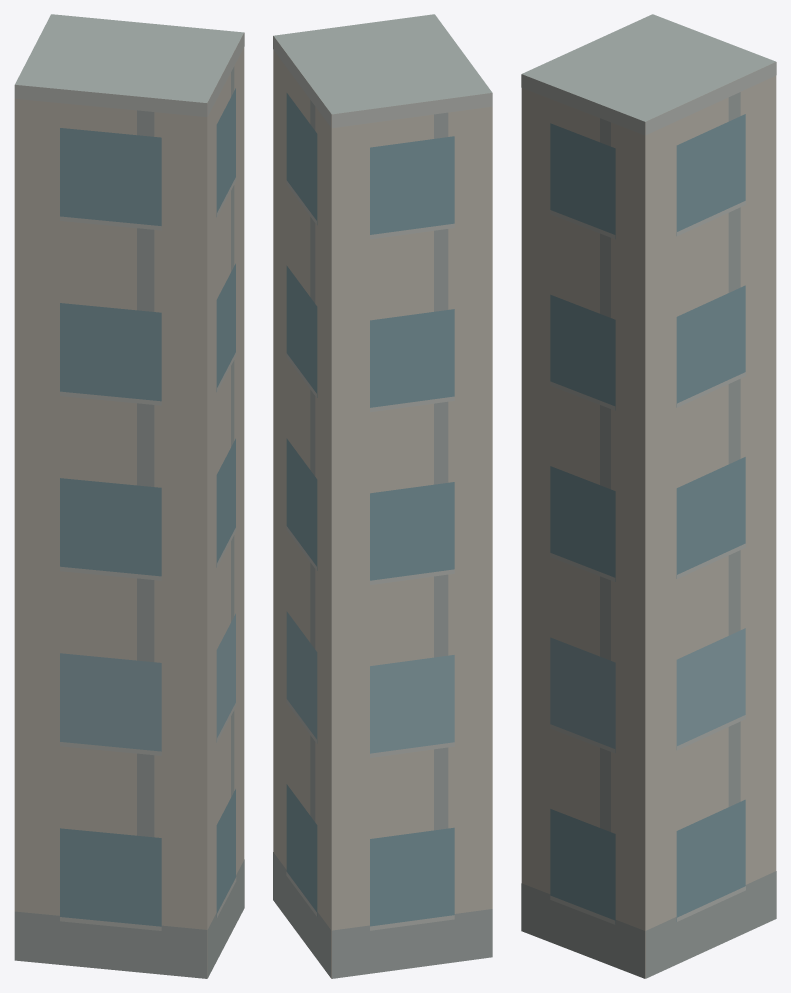
File: survey-upis-32805027.glb
3 views of the same model, side by side, from view 1: azimuth 30°, elevation 25°; view 2: azimuth 150°, elevation 25°; view 3: azimuth 270°, elevation 25° (orthographic). The views are drawn at different scales.
Visible parts, largest first — view 1: survey-upis-32805027.tmp; view 2: survey-upis-32805027.tmp; view 3: survey-upis-32805027.tmp.
Part boxes in pixels (<box>): survey-upis-32805027.tmp: <box>14,14,244,978</box>; survey-upis-32805027.tmp: <box>273,14,492,978</box>; survey-upis-32805027.tmp: <box>521,14,776,978</box>.
Bounding box in the file's own units: 4.12 × 15.25 × 4.12.
